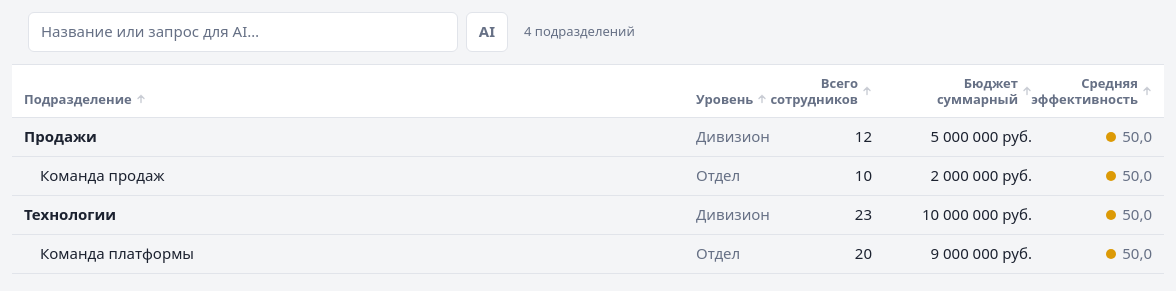
Scenario: AI-поиск в таблице › Enter отправляет запрос; фильтр заменяет текстовый поиск и задаёт сортировку
The image size is (1176, 291).
Type "  Команды   С БЮДЖЕТОМ побольше " into the search field named "Поиск по названию подразделения" at (243, 32), box x1=28 y1=12 x2=458 y2=52
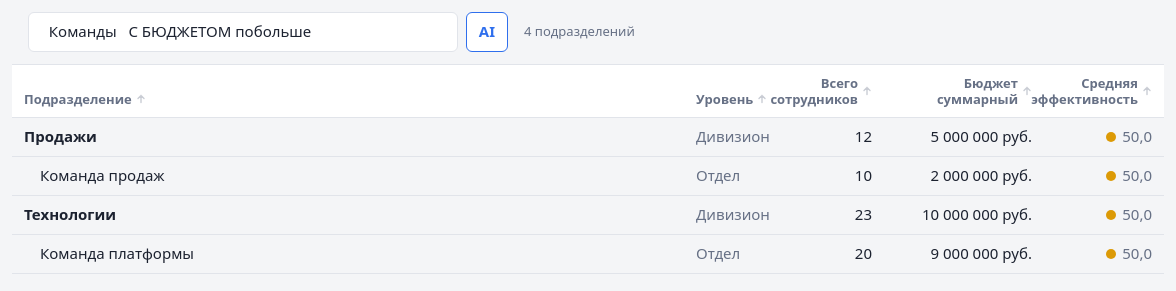
Submit the form named "Поиск по названию подразделения", box x1=28 y1=12 x2=508 y2=52
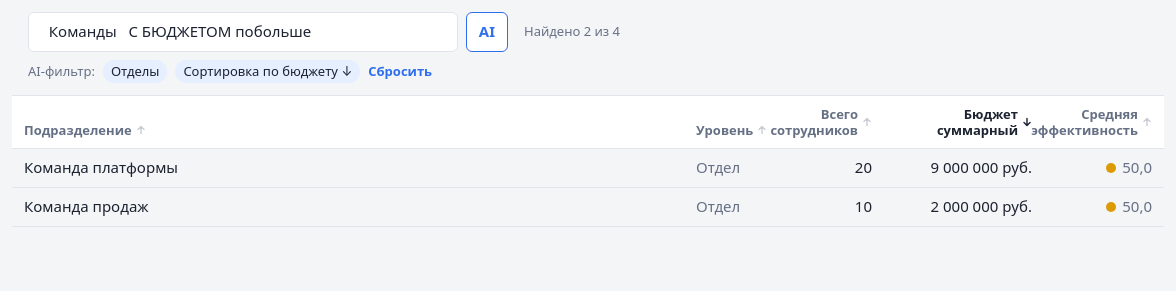
Check: the message shows "AI-фильтр", box x1=28 y1=62 x2=95 y2=80
